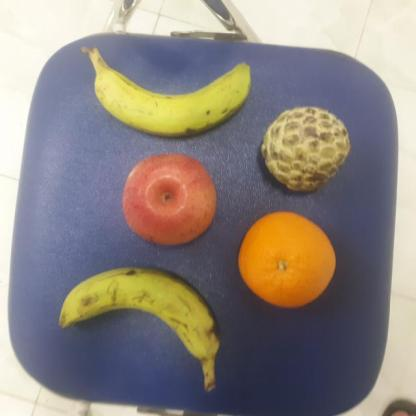annona: (259, 104, 352, 192)
apple: (121, 151, 218, 247)
banana: (57, 265, 223, 361), (92, 64, 252, 141)
orange: (237, 208, 336, 311)
